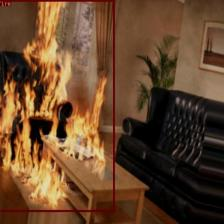fire: (0, 0, 114, 211)
